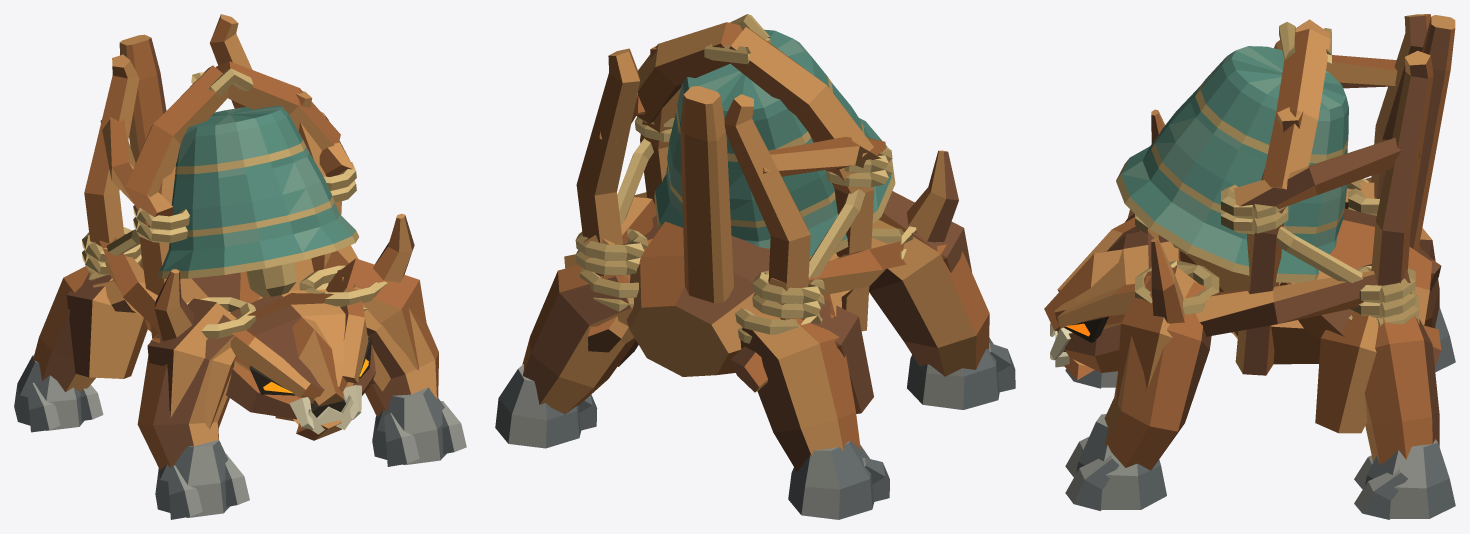
The model's file is bellback-complete-pass2.glb.
3 views of the same model, side by side, from view 1: azimuth 30°, elevation 25°; view 2: azimuth 150°, elevation 25°; view 3: azimuth 270°, elevation 25° (orthographic). The views are drawn at different scales.
Parts seen in each view (by area): view 1: Hollow cast bell, Left fore timber leg, Left hind shoulder cap, Left fore shoulder cap, Broken ship rib -1 1, Arch left, Solid timber cranium, Right fore shoulder cap, Right fore timber leg, Left hind timber leg, Arch right, Right fore stone foot (+32 smaller); view 2: Hollow cast bell, Barrel timber hull, Left hind timber leg, Left fore timber leg, Tall stern plank, Right hind timber leg, Broken ship rib 1 1, Broken ship rib -1 1, Arch left, Left hind stone foot, Arch right, Right hind stone foot (+24 smaller); view 3: Hollow cast bell, Right fore timber leg, Right hind timber leg, Broken ship rib 1 1, Rooted lower hull rib 1, Barrel timber hull, Arch right, Right hind shoulder cap, Sweeping upper wreck rib 1, Right hind stone foot, Broken ship rib 1 0, Tall stern plank (+25 smaller).
Part boxes in pixels (<box>): Hollow cast bell: <box>157,105,359,278</box>; Left fore timber leg: <box>137,314,238,470</box>; Left hind shoulder cap: <box>66,272,147,378</box>; Left fore shoulder cap: <box>147,298,236,429</box>; Broken ship rib -1 1: <box>84,54,139,246</box>; Arch left: <box>125,65,228,196</box>; Solid timber cranium: <box>230,289,348,404</box>; Right fore shoulder cap: <box>326,258,427,391</box>; Right fore timber leg: <box>328,269,438,417</box>; Left hind timber leg: <box>32,266,95,392</box>; Arch right: <box>216,61,340,150</box>; Right fore stone foot: <box>372,387,446,464</box>; Hollow cast bell: <box>654,29,895,259</box>; Barrel timber hull: <box>626,221,852,376</box>; Left hind timber leg: <box>740,312,860,471</box>; Left fore timber leg: <box>869,219,989,376</box>; Tall stern plank: <box>680,86,733,303</box>; Right hind timber leg: <box>522,265,635,414</box>; Broken ship rib 1 1: <box>576,48,640,277</box>; Broken ship rib -1 1: <box>724,94,810,320</box>; Arch left: <box>729,27,873,169</box>; Left hind stone foot: <box>788,440,874,519</box>; Arch right: <box>636,22,742,123</box>; Right hind stone foot: <box>495,364,581,448</box>; Hollow cast bell: <box>1116,46,1348,282</box>; Right fore timber leg: <box>1104,276,1211,470</box>; Right hind timber leg: <box>1364,316,1439,464</box>; Broken ship rib 1 1: <box>1371,50,1433,314</box>; Rooted lower hull rib 1: <box>1195,268,1411,336</box>; Barrel timber hull: <box>1147,208,1431,364</box>; Arch right: <box>1262,28,1330,189</box>; Right hind shoulder cap: <box>1315,311,1378,433</box>; Sweeping upper wreck rib 1: <box>1234,137,1420,209</box>; Right hind stone foot: <box>1365,439,1455,518</box>; Broken ship rib 1 0: <box>1235,107,1303,375</box>; Tall stern plank: <box>1409,15,1455,250</box>.
Size of the model in its own units: 3.43 by 3.61 by 3.29.
